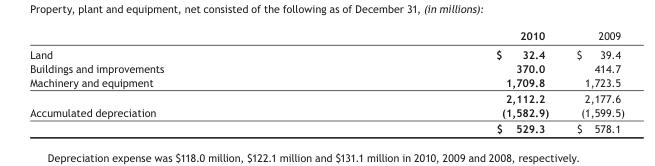table: (29, 28, 624, 134)
table column: (29, 28, 329, 134), (329, 28, 562, 134), (562, 28, 624, 134)
table column header: (29, 28, 624, 44)
table row: (29, 28, 624, 44), (29, 44, 624, 60), (29, 89, 624, 105), (29, 74, 624, 89), (29, 105, 624, 120), (29, 60, 624, 74), (29, 120, 624, 134)
